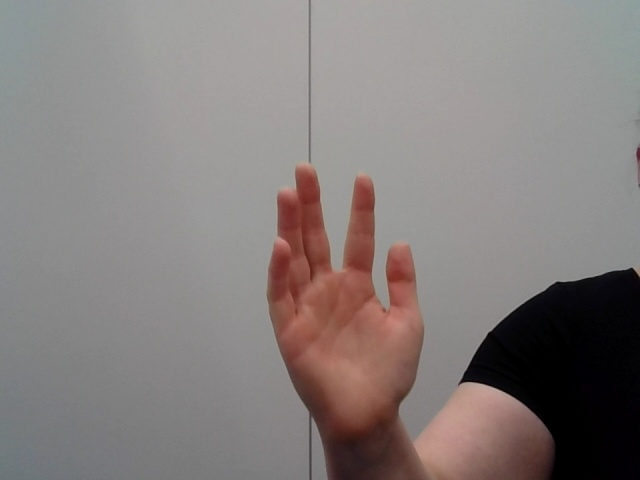nada: (254, 162, 438, 449)
